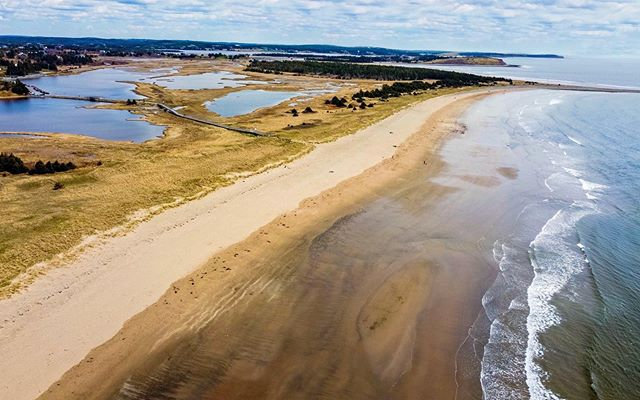beach: (22, 90, 479, 400)
sea: (379, 86, 640, 399)
sky: (6, 1, 640, 53)
